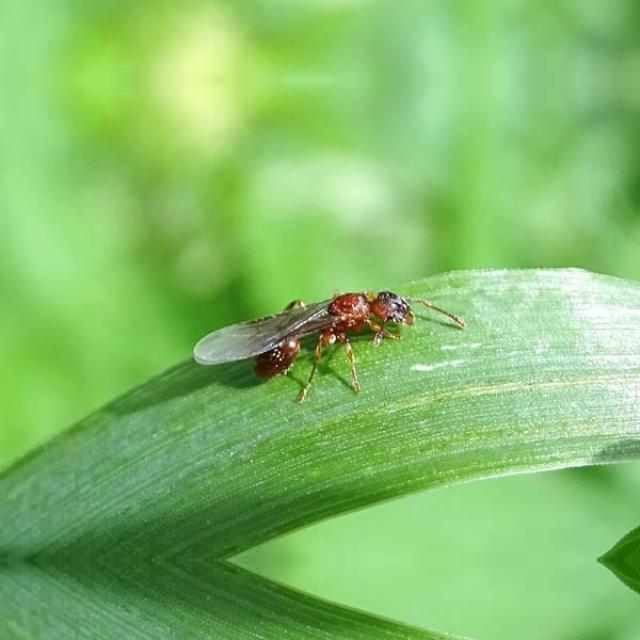Myrmica: (224, 272, 446, 403)
